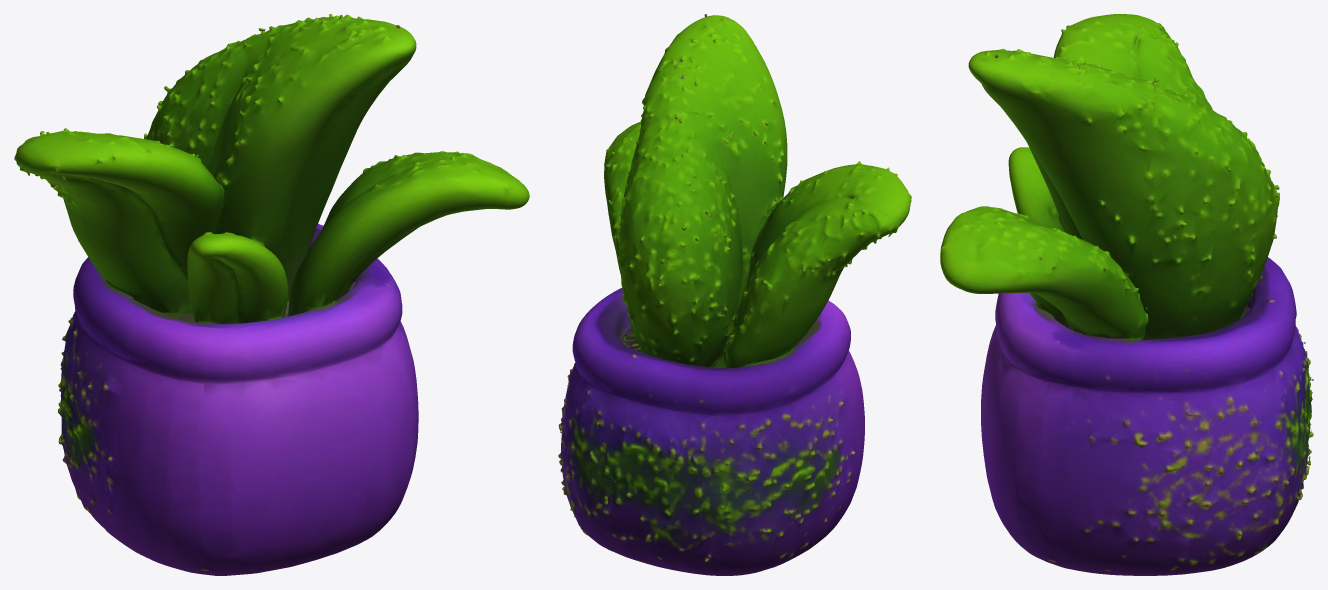
File: plant.glb
3 renders of one model, left to right at view 1: azimuth 30°, elevation 25°; view 2: azimuth 150°, elevation 25°; view 3: azimuth 270°, elevation 25°, orthographic. The views are drawn at different scales.
Visible parts, largest first — view 1: geometry_0; view 2: geometry_0; view 3: geometry_0.
Boxes of the visible parts, x1,y1,x2,y2 form: geometry_0: (14, 14, 529, 575); geometry_0: (558, 14, 911, 575); geometry_0: (940, 14, 1313, 575).
Size of the model in its own units: 0.811 by 1 by 0.65.
Materials: 1 (1 with a texture image).
